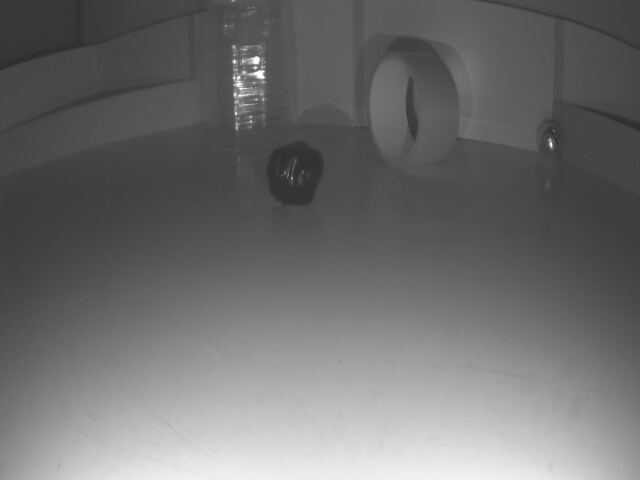Dead: (269, 143, 323, 210)
Live: (536, 120, 566, 163)
Point: (0, 78, 197, 175), (557, 103, 640, 197)
